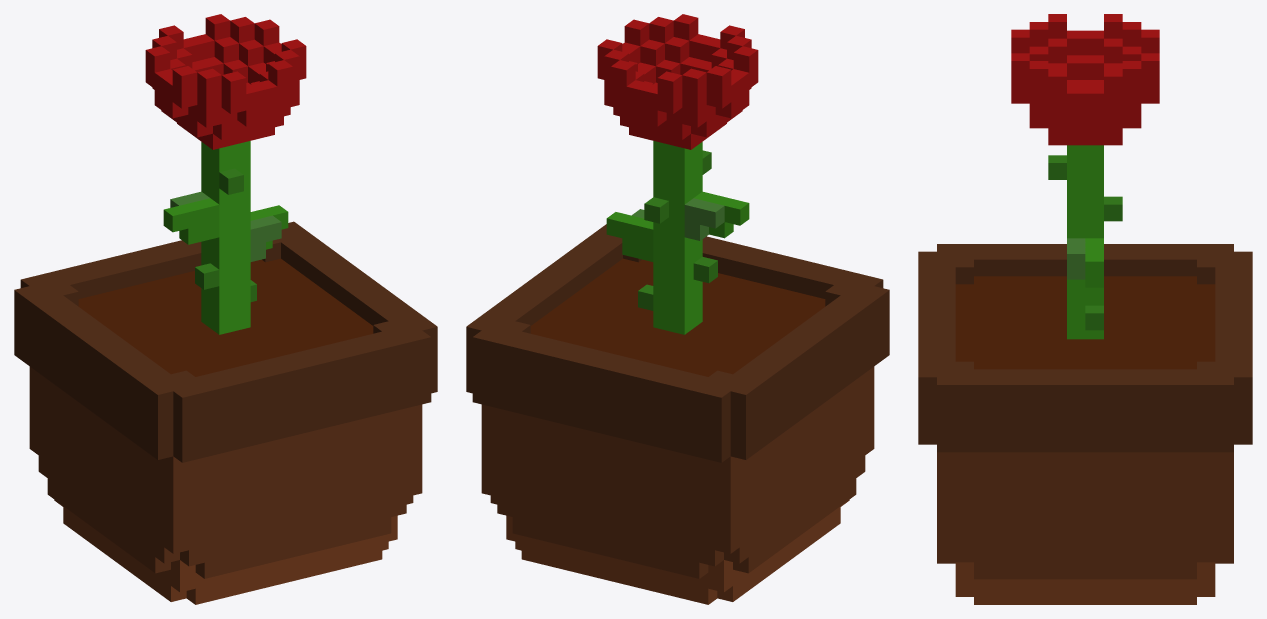
The model's file is RosePot.fbx.
3 renders of one model, left to right at view 1: azimuth 30°, elevation 25°; view 2: azimuth 150°, elevation 25°; view 3: azimuth 270°, elevation 25°, orthographic. The views are drawn at different scales.
Parts seen in each view (by area): view 1: Polygon; view 2: Polygon; view 3: Polygon.
Part boxes in pixels (x1=…): Polygon: x1=14, y1=14, x2=437, y2=604; Polygon: x1=466, y1=14, x2=889, y2=604; Polygon: x1=918, y1=14, x2=1252, y2=604.
Bounding box in the file's own units: 1.8 × 3 × 1.8.
1 material, 1 textured.
